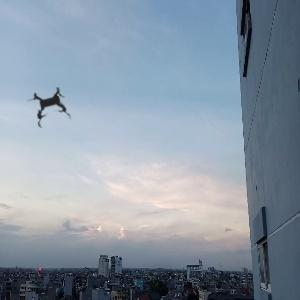drone: (13, 68, 90, 145)
